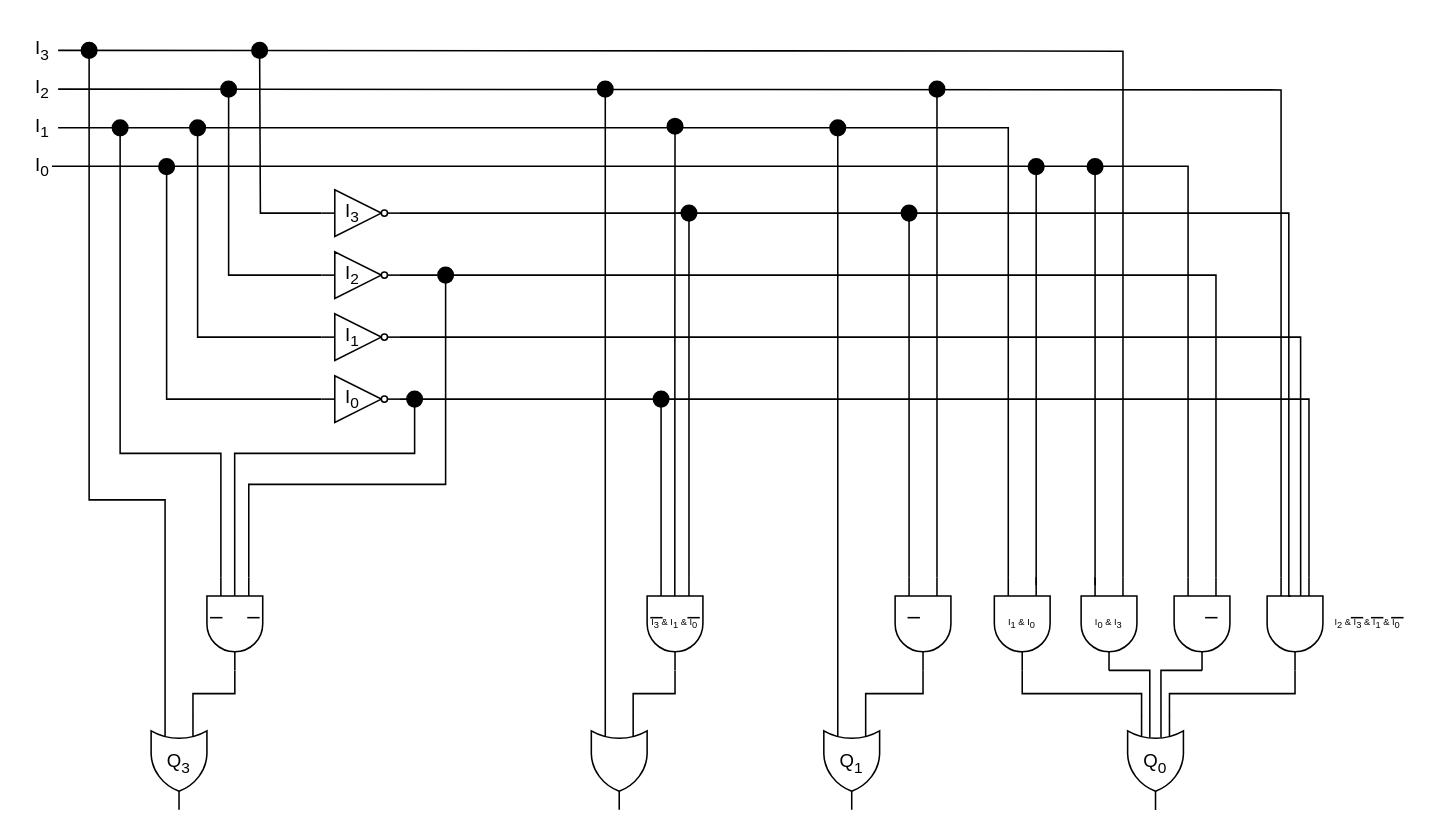
Some shapes in this 1432 by 837 pixel diagram are drawn without their labels. Here are the shapes that lost their labels. From the top down, the box of each, then its label:
(205, 576, 263, 670): I 2 & I 1 & I 0
(894, 576, 951, 670): I 3 & I 2
(1173, 576, 1230, 670): I 0 & I 2
(590, 715, 647, 810): Q 2
